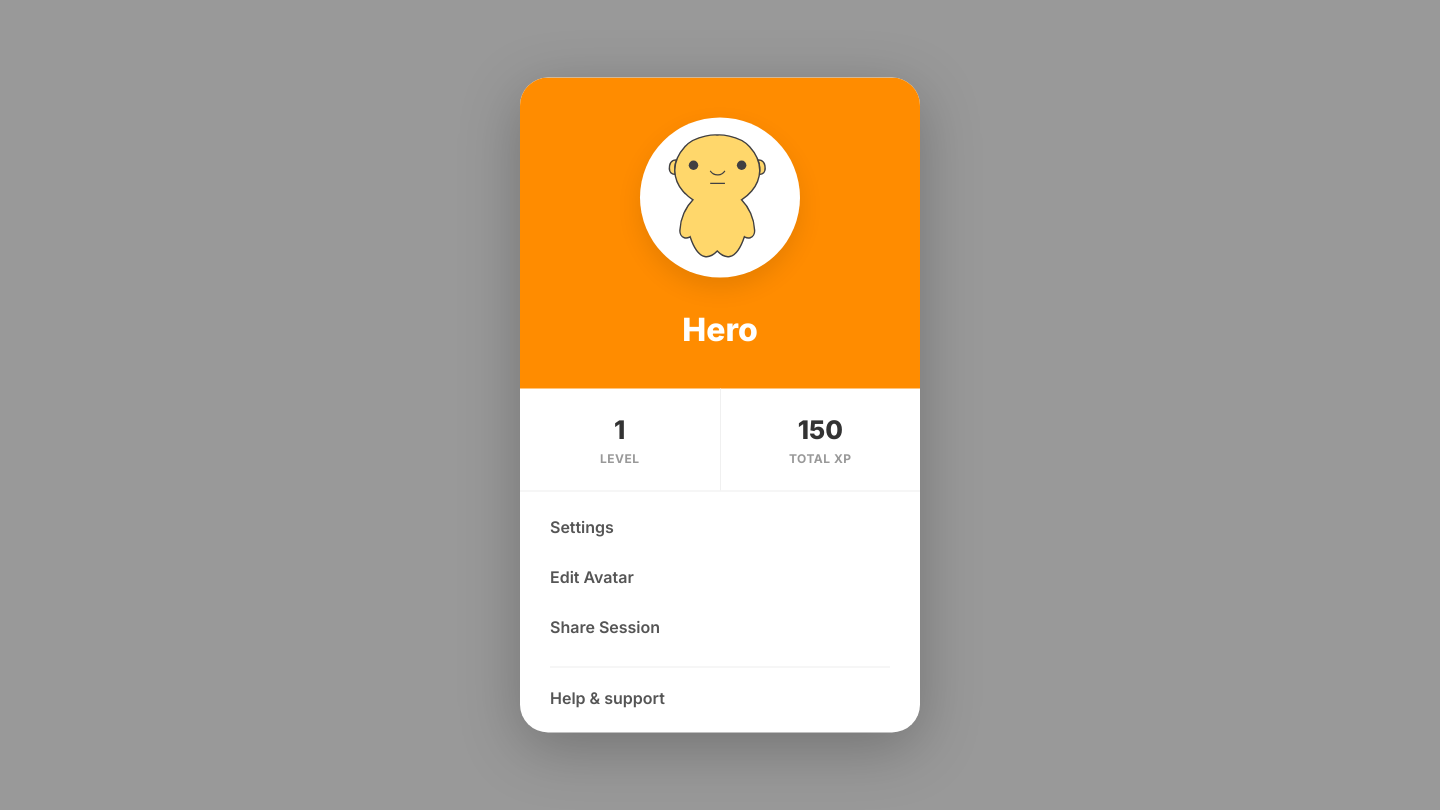
Test: ProfileModal › shows toast after Share Session is clicked
Click the text "Share Session" at (605, 626), box [550,616,660,636]
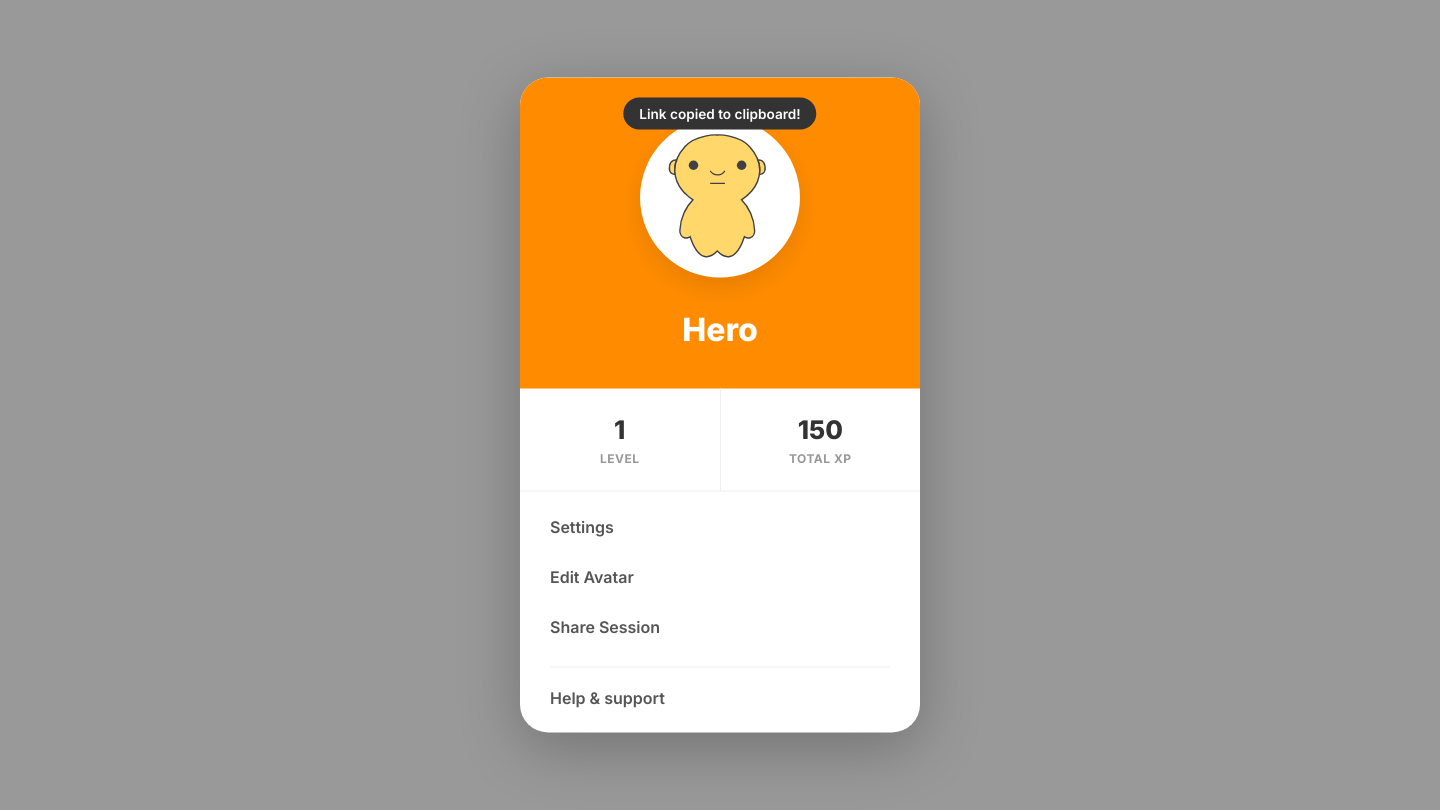
expect the text "Link copied to clipboard!" is shown: met, box [623,98,817,130]
